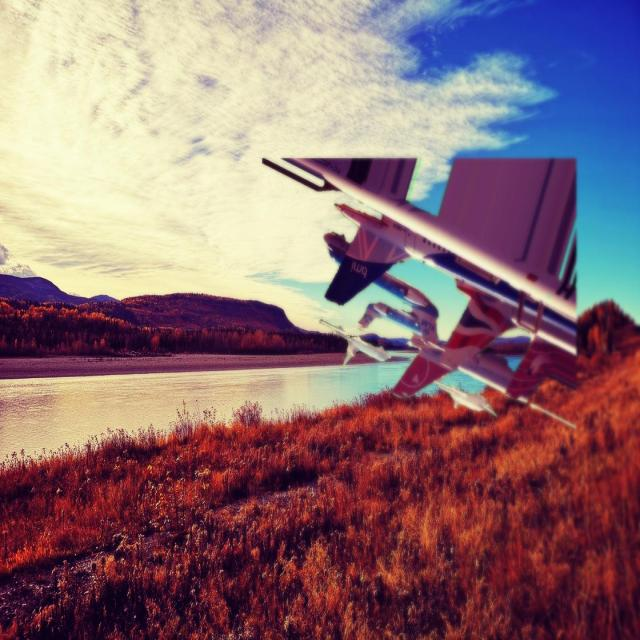airplane: (261, 154, 580, 429)
